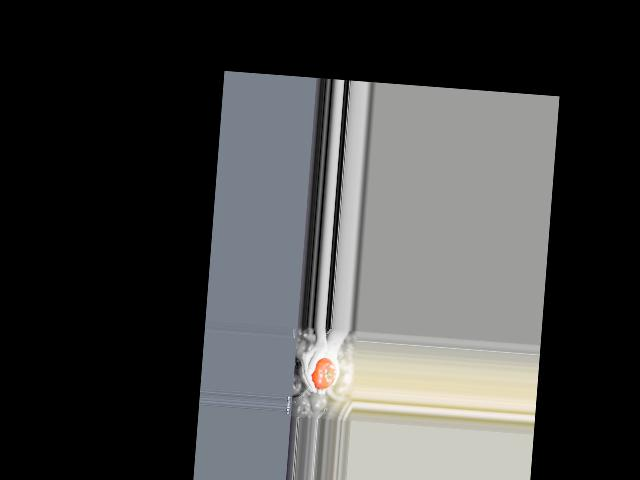tomato: (310, 356, 337, 389)
